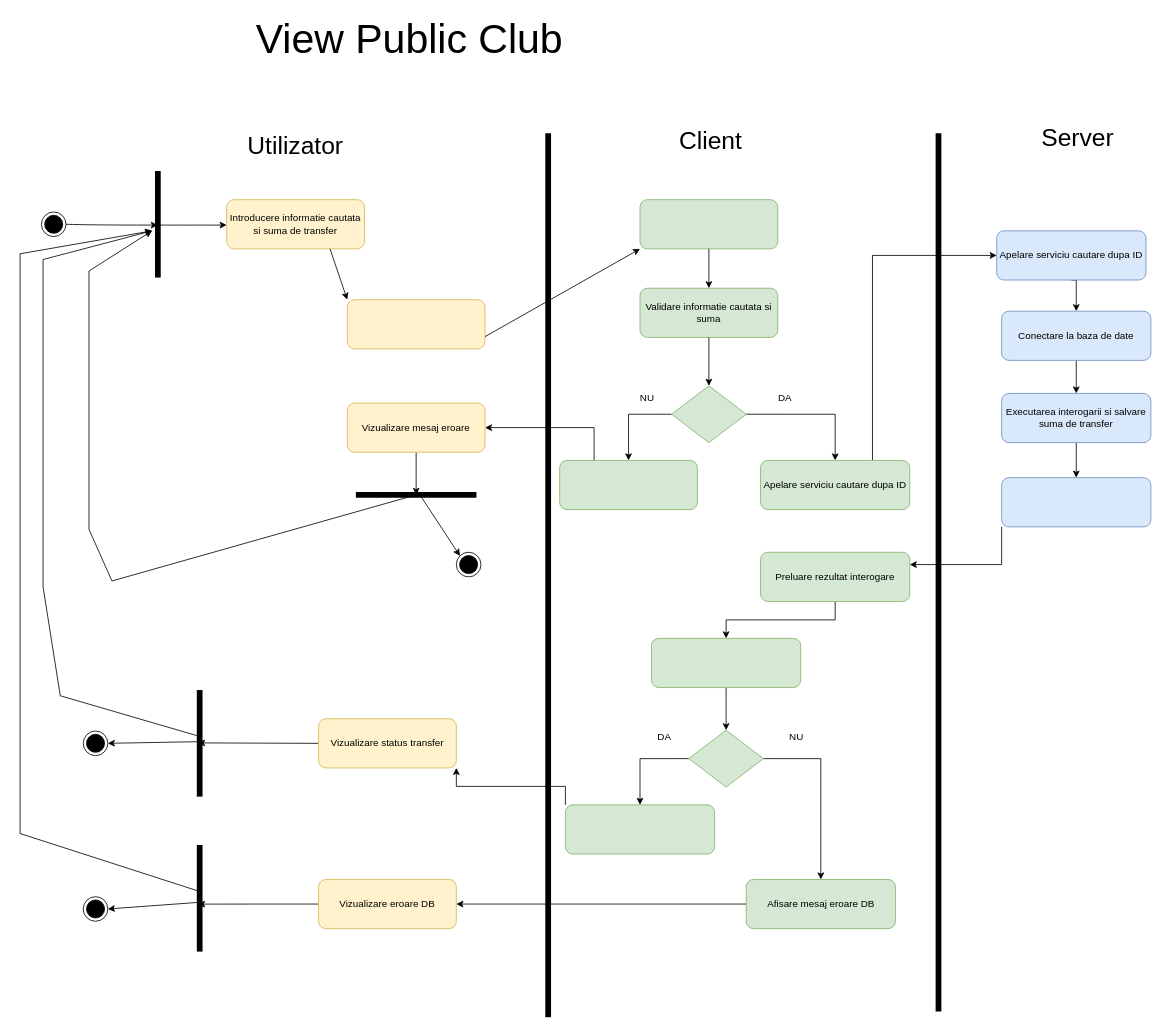
Some shapes in this 1165 by 1035 pixel diagram are drawn without their labels. The box of each missing label's shape, as (x1, y1, x2, y2) in pixels:
Afisare mesaj eroare: (559, 460, 697, 510)
Analiza rezultat: (651, 638, 801, 688)
Deconectarea de la baza de date: (1001, 477, 1151, 527)
Generare cautare oferta jucator: (346, 299, 485, 349)
Preluarea informatie cautata si suma de transfer: (639, 199, 778, 249)
Salvare date transfer: (565, 804, 715, 854)
